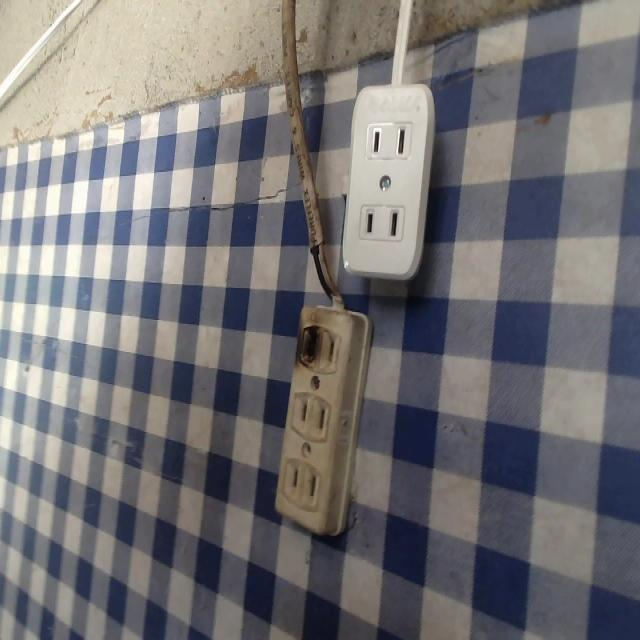-: (288, 312, 322, 373)
